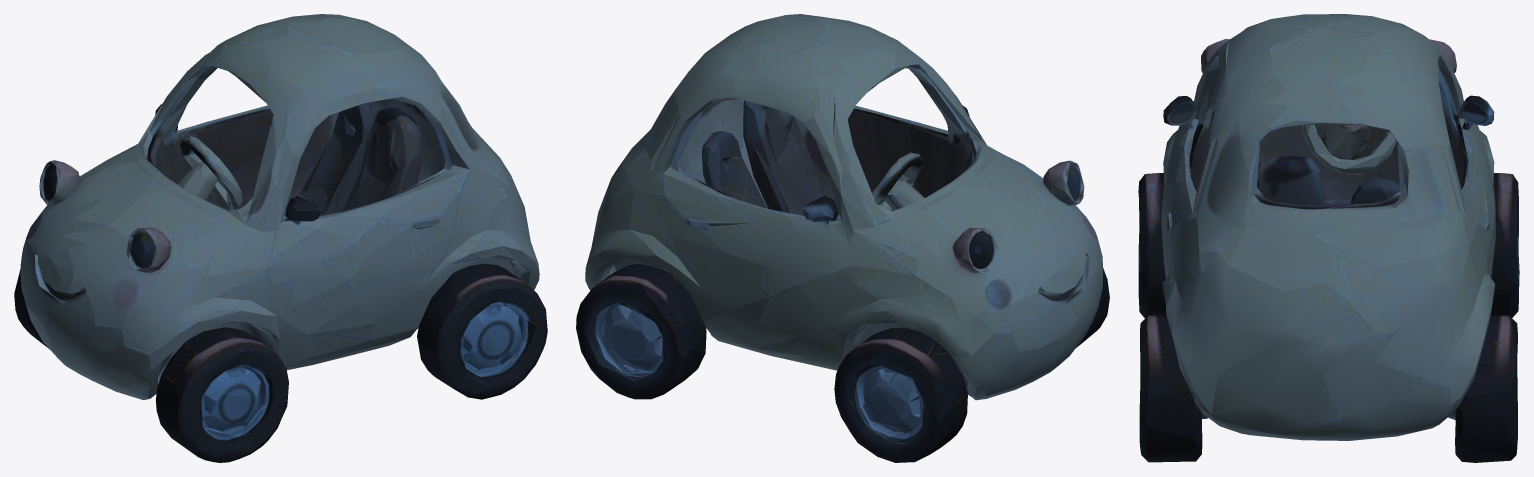
Rendered from car.ce6531fe.glb.
3 renders of one model, left to right at view 1: azimuth 30°, elevation 25°; view 2: azimuth 150°, elevation 25°; view 3: azimuth 270°, elevation 25°, orthographic. The views are drawn at different scales.
Visible parts, largest first — view 1: output_unwrapped; view 2: output_unwrapped; view 3: output_unwrapped.
Part boxes in pixels (<box>): output_unwrapped: <box>14,14,547,462</box>; output_unwrapped: <box>576,14,1109,462</box>; output_unwrapped: <box>1138,14,1519,462</box>.
Bounding box in the file's own units: 1.9 × 1.32 × 1.23.
Materials: 1 (1 with a texture image).
